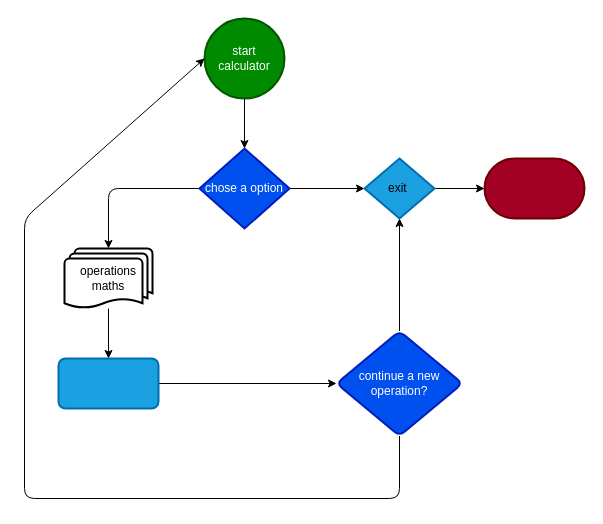
The diagram is 603 pixels wide and 524 high, and some of its shapes have lost their labels. Each missing label, with the box of its shape:
operationprocess and print result: (57, 357, 159, 409)
shutdown: (483, 157, 585, 219)
